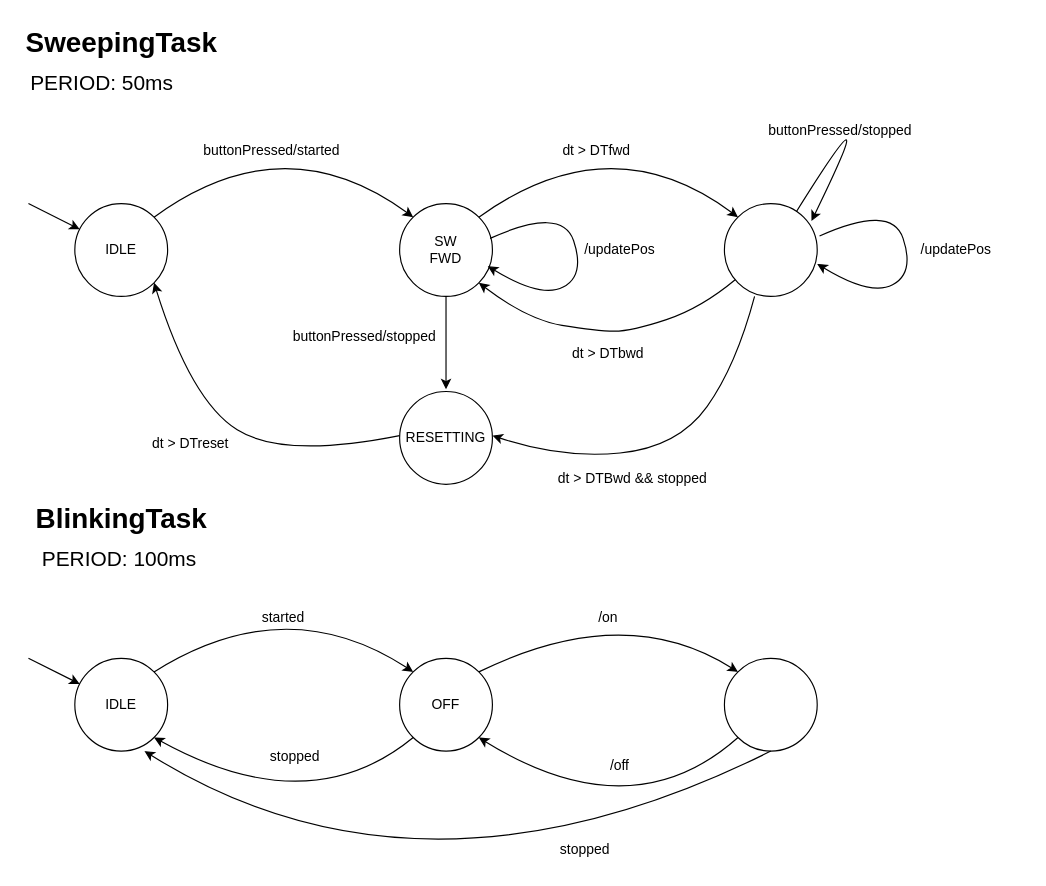
Image size: 1046x886. Some labels were removed from this diagram. Here are the shapes that lost their labels. From the top down, the centre of each, then its label:
At point (770, 249): "SW BWD".
At point (770, 704): "ON".
